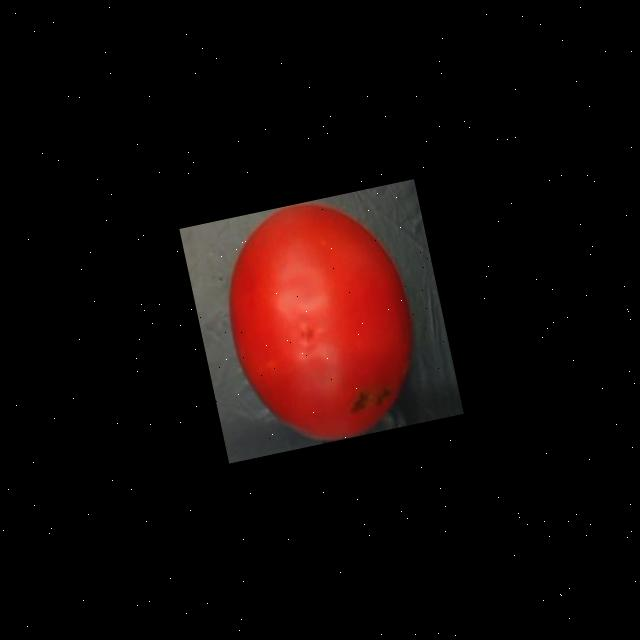tomato: (195, 182, 438, 458)
